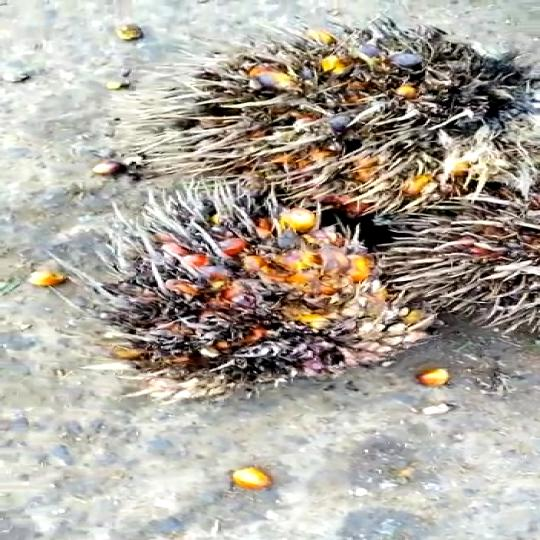terlalu masak: (51, 197, 437, 388), (138, 14, 540, 196)
